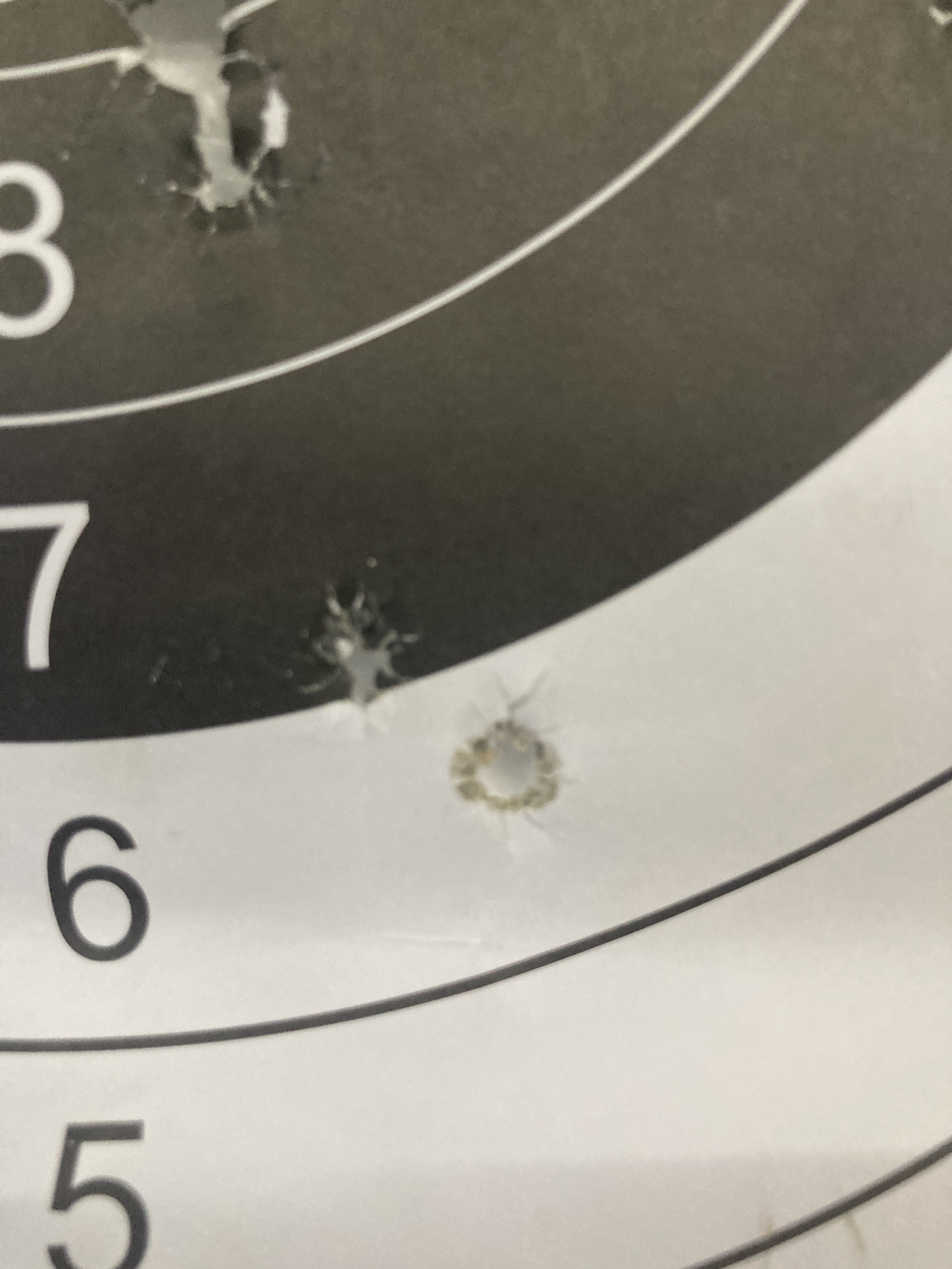hole: (157, 110, 293, 258), (419, 702, 592, 812), (296, 573, 412, 733), (104, 0, 286, 88)
